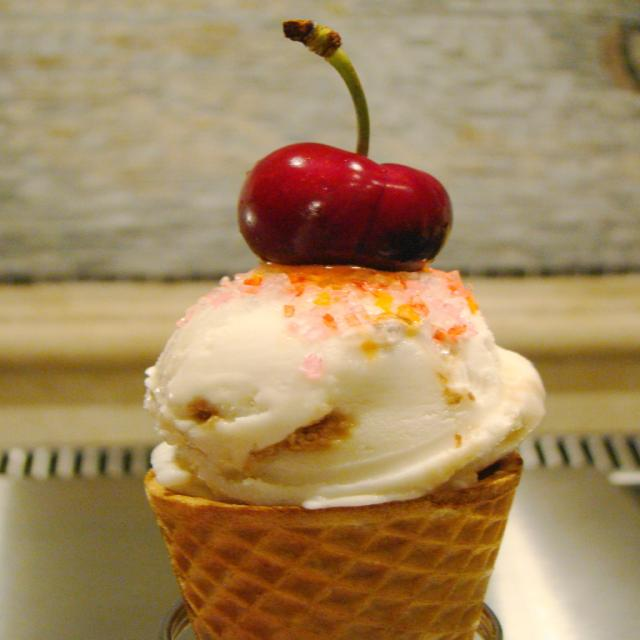Healty Apple: (218, 125, 462, 306)
